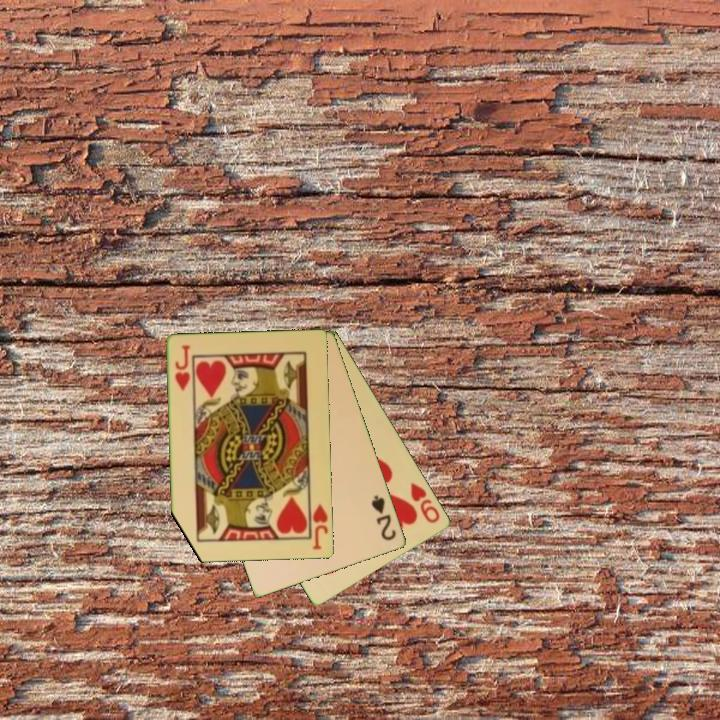2s: (368, 492, 399, 544)
9h: (407, 479, 443, 526)
Jh: (309, 501, 331, 553), (172, 342, 193, 394)
